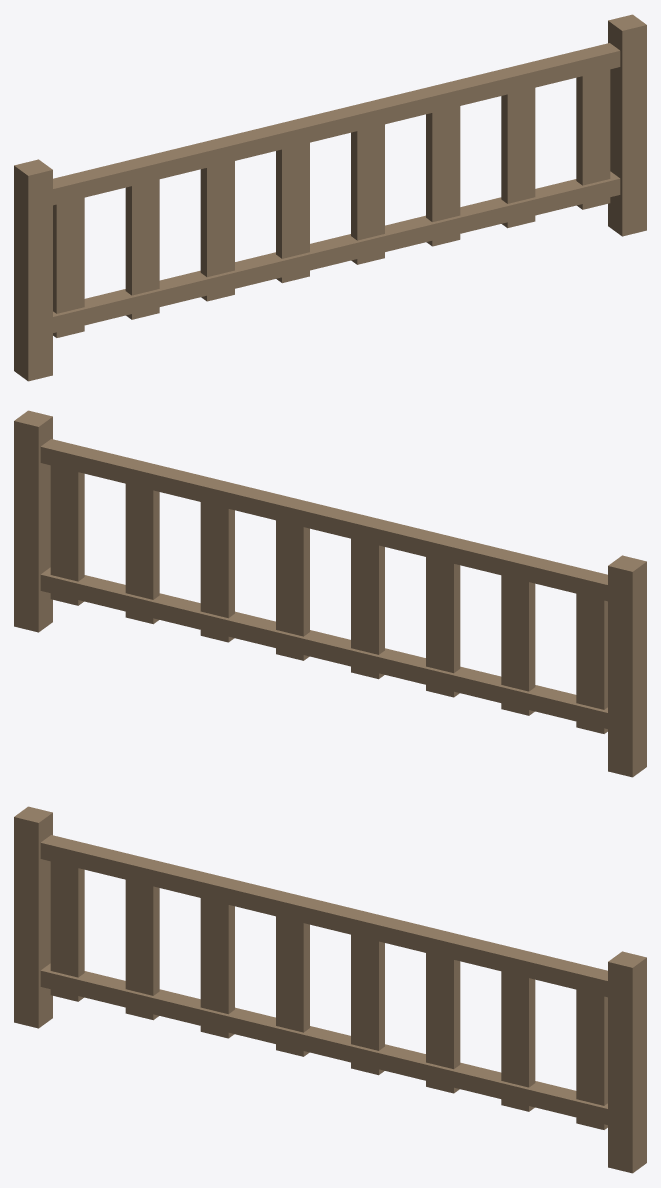
3 renders of one model, top to bottom at view 1: azimuth 30°, elevation 25°; view 2: azimuth 150°, elevation 25°; view 3: azimuth 330°, elevation 25°, orthographic.
Size of the model in its own units: 4 by 1.27 by 0.16.
